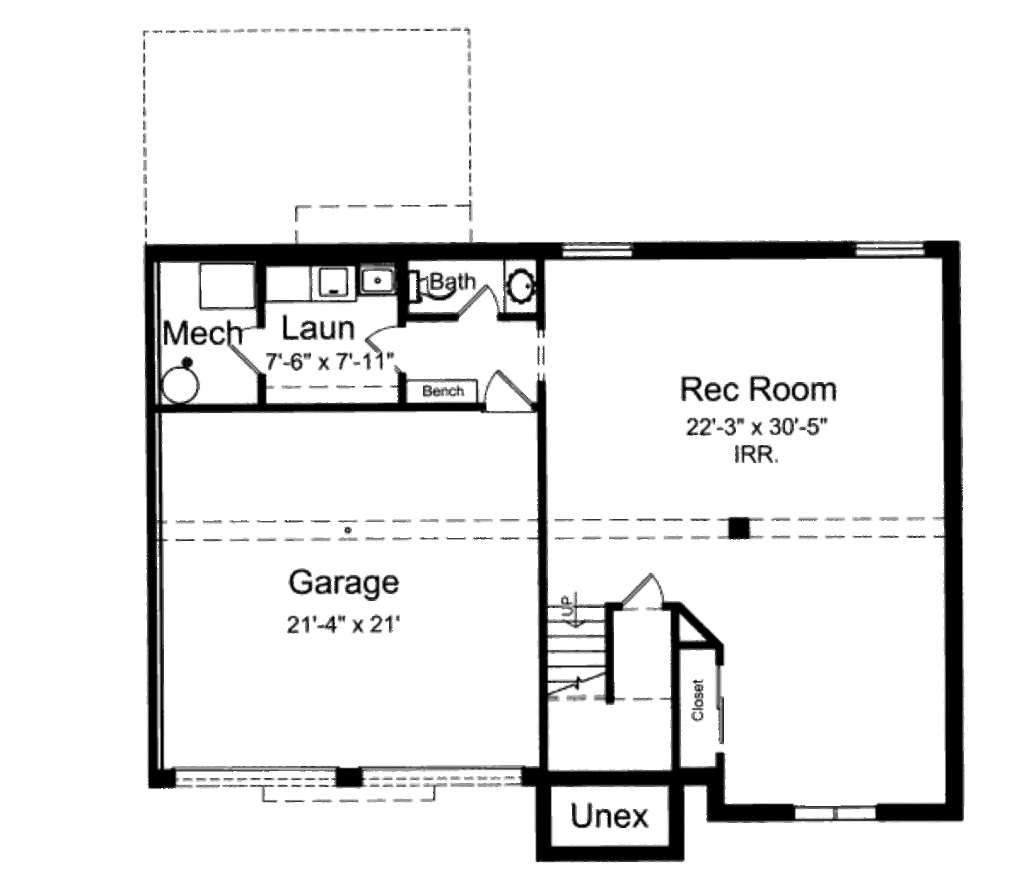door: (222, 320, 280, 375), (478, 366, 535, 416), (358, 324, 411, 376), (617, 561, 670, 613), (456, 276, 505, 318)
large_sink: (406, 263, 459, 318)
sink: (504, 263, 537, 316), (357, 265, 401, 298)
stairs: (547, 604, 612, 705)
window: (797, 795, 880, 823), (855, 235, 928, 261), (558, 239, 631, 264)
